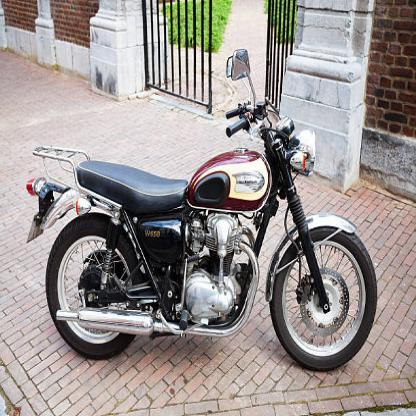Motorcycle: (15, 44, 382, 372)
